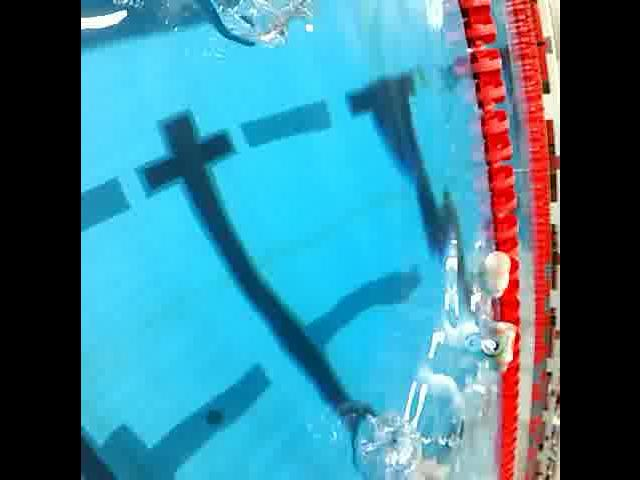Bottle: (94, 0, 326, 50), (349, 407, 437, 480), (484, 247, 514, 307), (491, 318, 515, 376)
Can: (479, 334, 504, 360)
